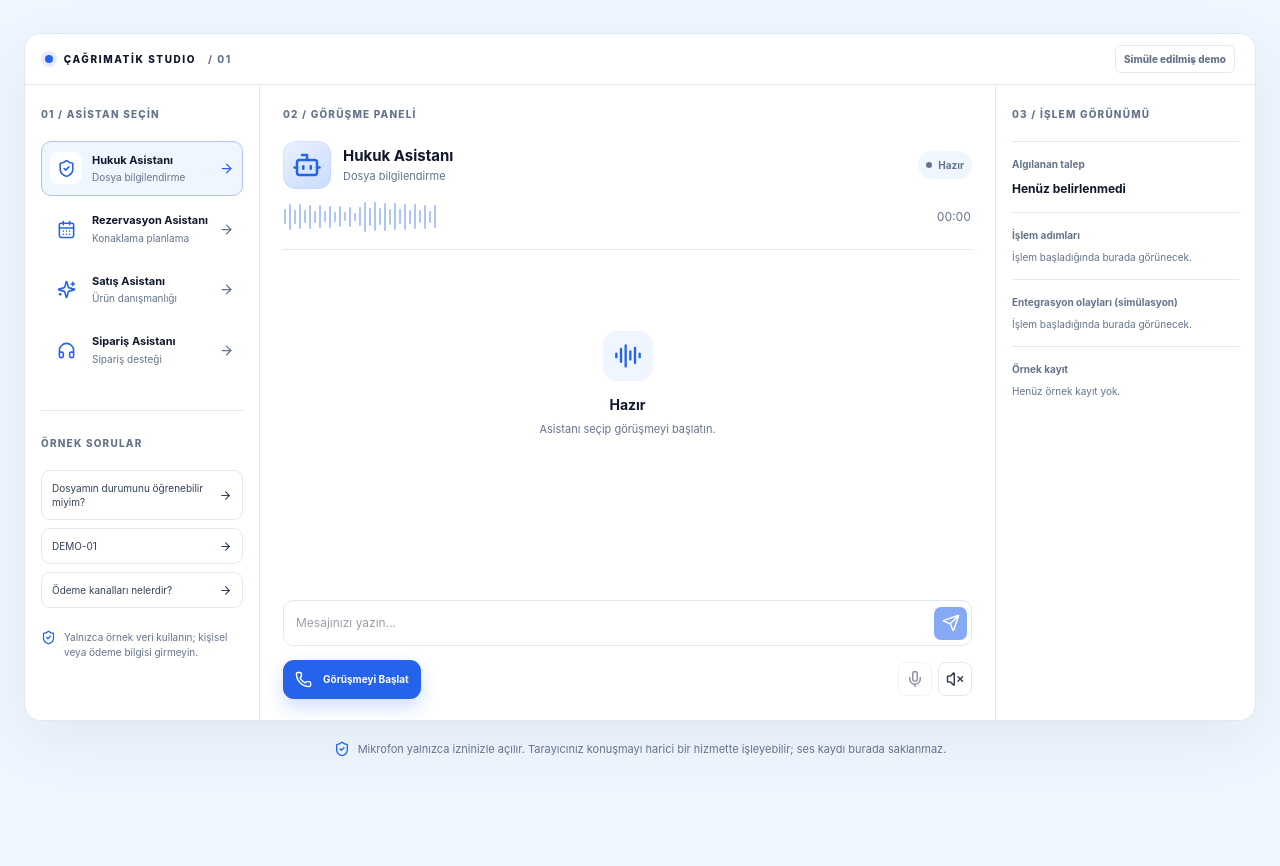
Test: Demo Studio interface › keeps the simulated handoff summary visible
The image size is (1280, 866).
(page scrolled)
Click the button "Görüşmeyi Başlat". click: [352, 679]
box: x1=283 y1=660 x2=421 y2=699
Wait 400 ms
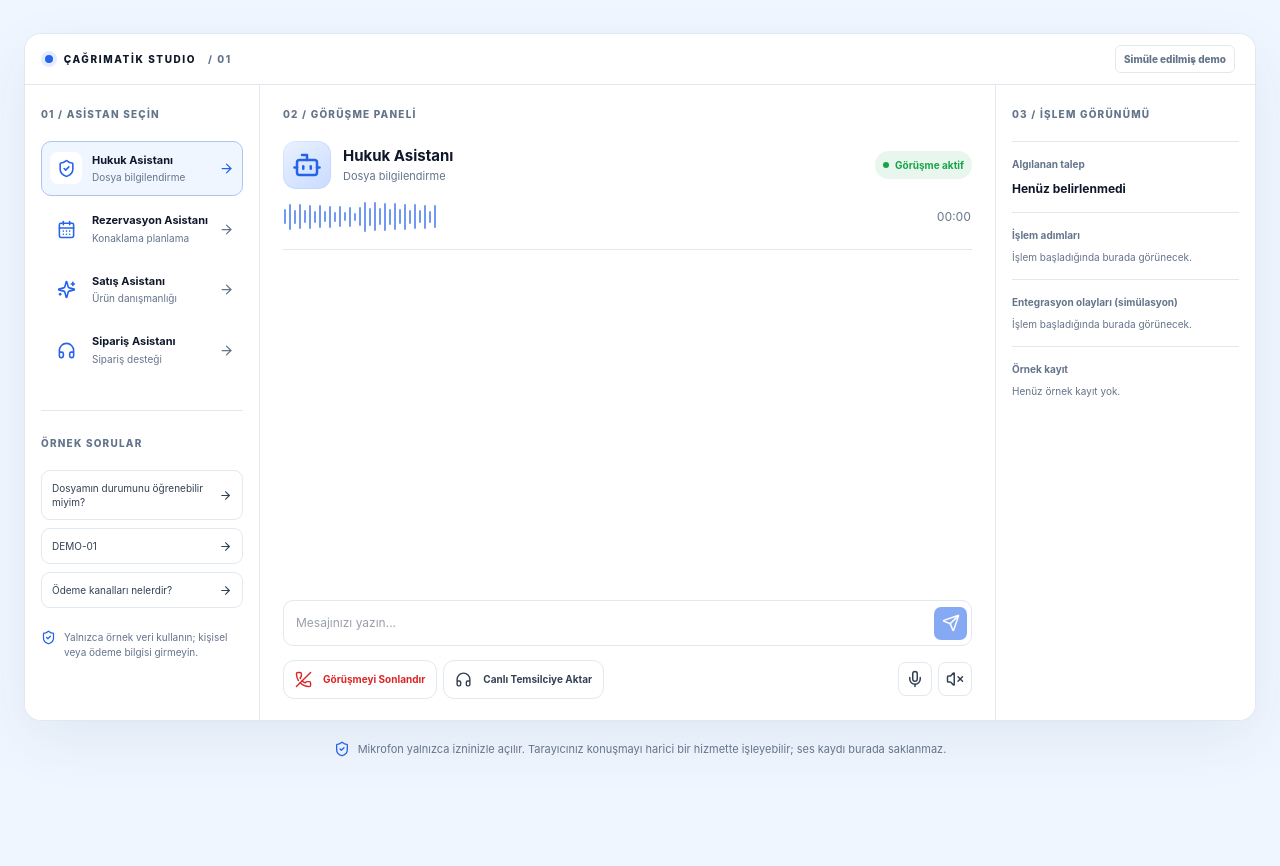
Click the button "Canlı Temsilciye Aktar". click: [524, 679]
box: x1=443 y1=660 x2=604 y2=699
Wait 700 ms
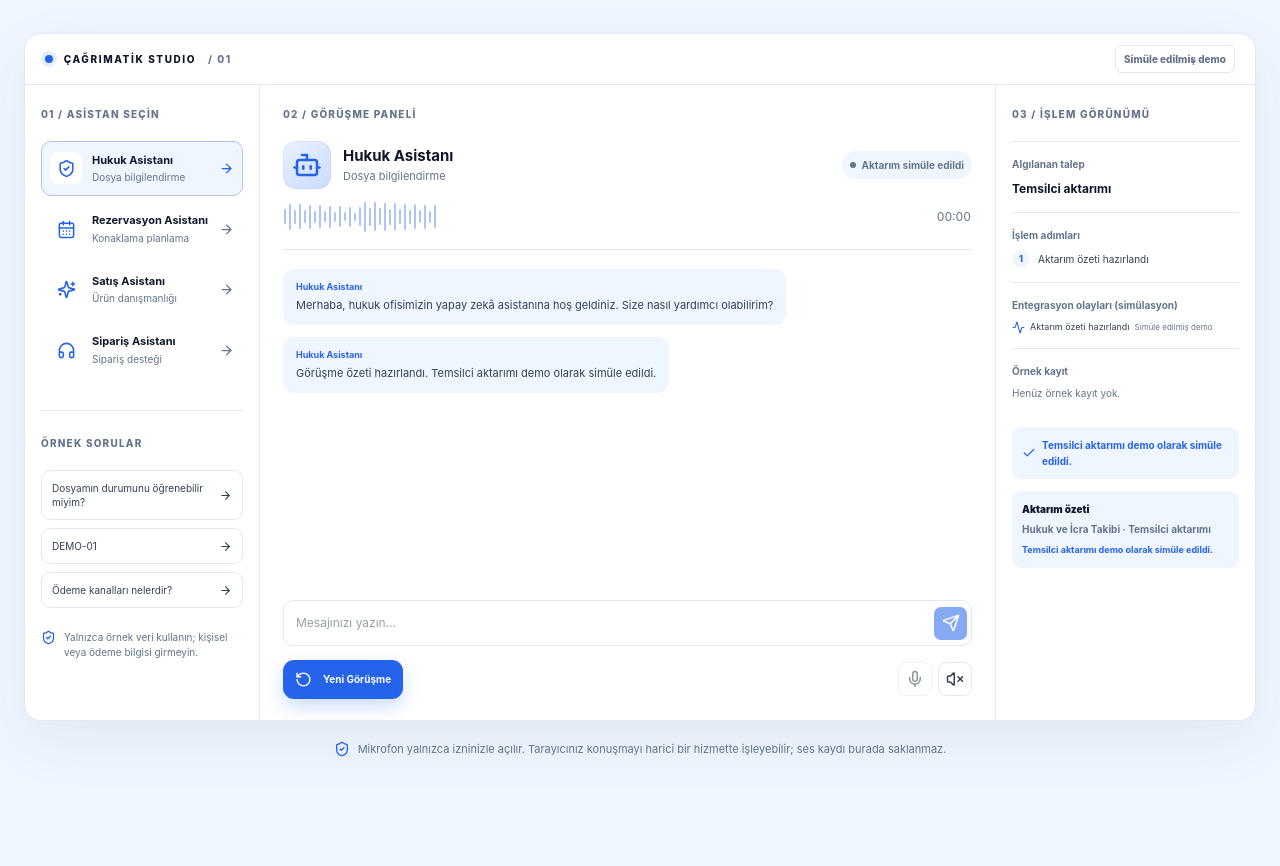
Expected: the text "Aktarım özeti" is shown, x1=1022 y1=503 x2=1089 y2=515
Expected: the text "Temsilci aktarımı demo olarak simüle edildi." is shown, x1=1012 y1=427 x2=1239 y2=479
